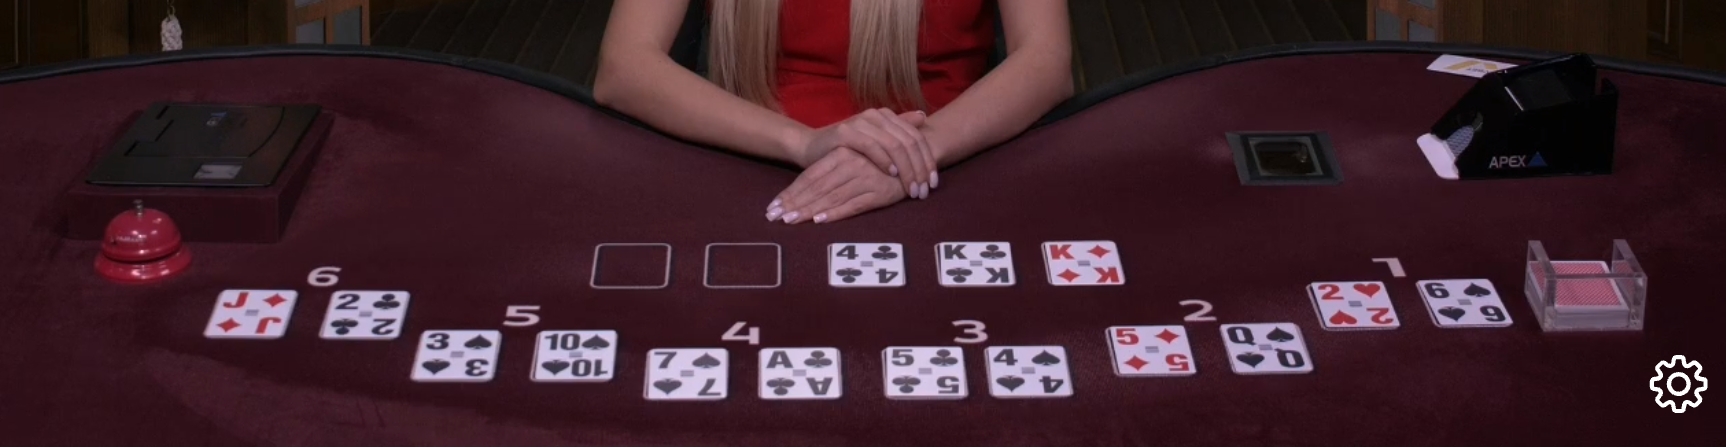10s: (526, 326, 625, 390)
2c: (323, 282, 408, 345)
2h: (1309, 276, 1400, 336)
3s: (409, 321, 507, 384)
4c: (828, 238, 913, 293)
4s: (983, 340, 1083, 407)
5c: (874, 341, 970, 404)
5d: (1101, 325, 1197, 380)
6s: (1411, 275, 1517, 332)
7s: (643, 339, 736, 407)
asc: (751, 345, 846, 410)
jd: (207, 283, 301, 346)
kc: (933, 238, 1019, 288)
kd: (1040, 236, 1133, 288)
qs: (1217, 319, 1322, 379)
